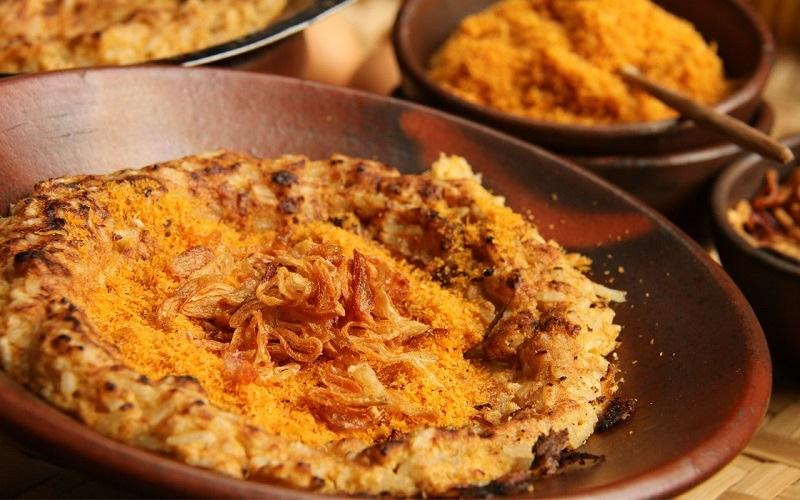kerak_telor: (2, 152, 623, 500)
